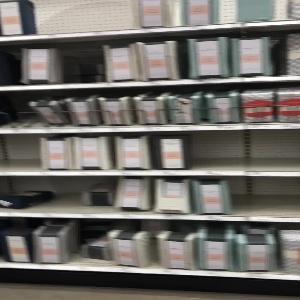void: (188, 129, 300, 173), (1, 176, 116, 213), (33, 1, 135, 30), (228, 177, 300, 217), (57, 38, 106, 86), (69, 221, 113, 266), (1, 131, 40, 176)
